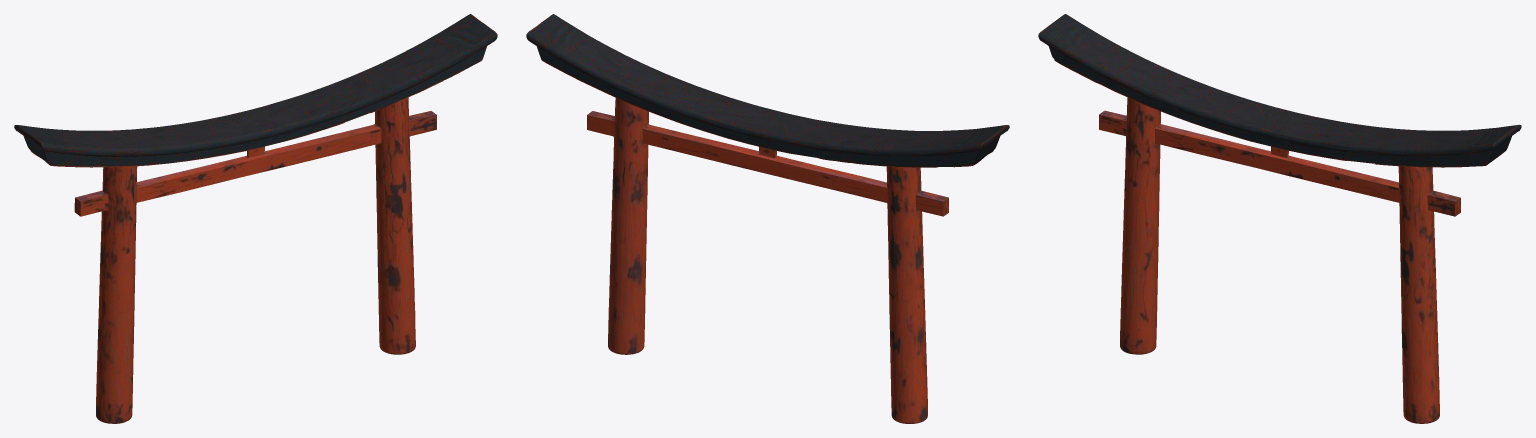
Rendered from torii.glb.
3 views of the same model, side by side, from view 1: azimuth 30°, elevation 25°; view 2: azimuth 150°, elevation 25°; view 3: azimuth 330°, elevation 25° (orthographic).
Bounding box in the file's own units: 1.9 × 1.21 × 0.2042.
Materials: 1 (1 with a texture image).
